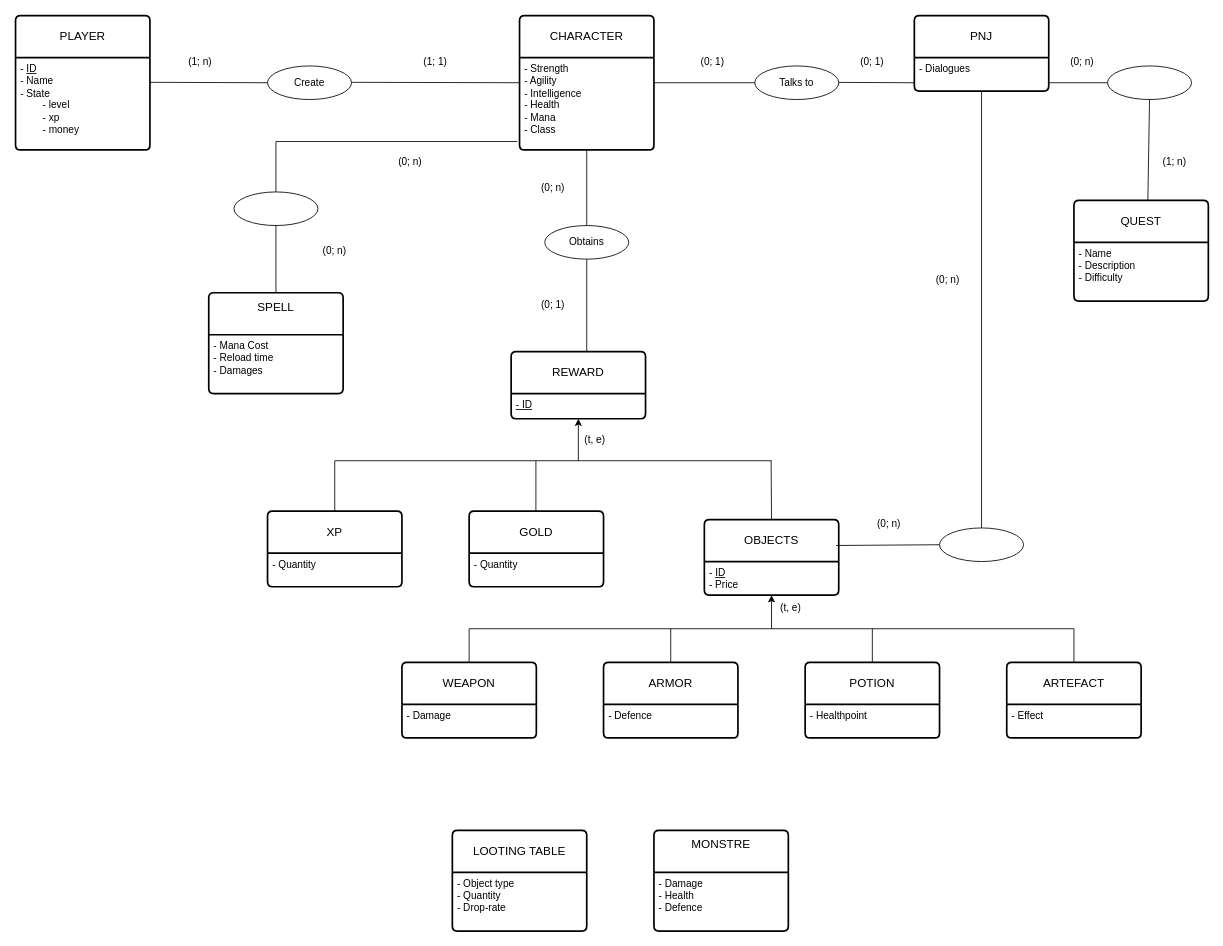
This 1223x946 diagram has some shape labels left out. The shapes that lost their labels are listed below. From the top down, each one's centre as x and y in pixels, then its label:
the point at 1149,82: Can give
the point at 275,208: Can use
the point at 981,544: Sells
